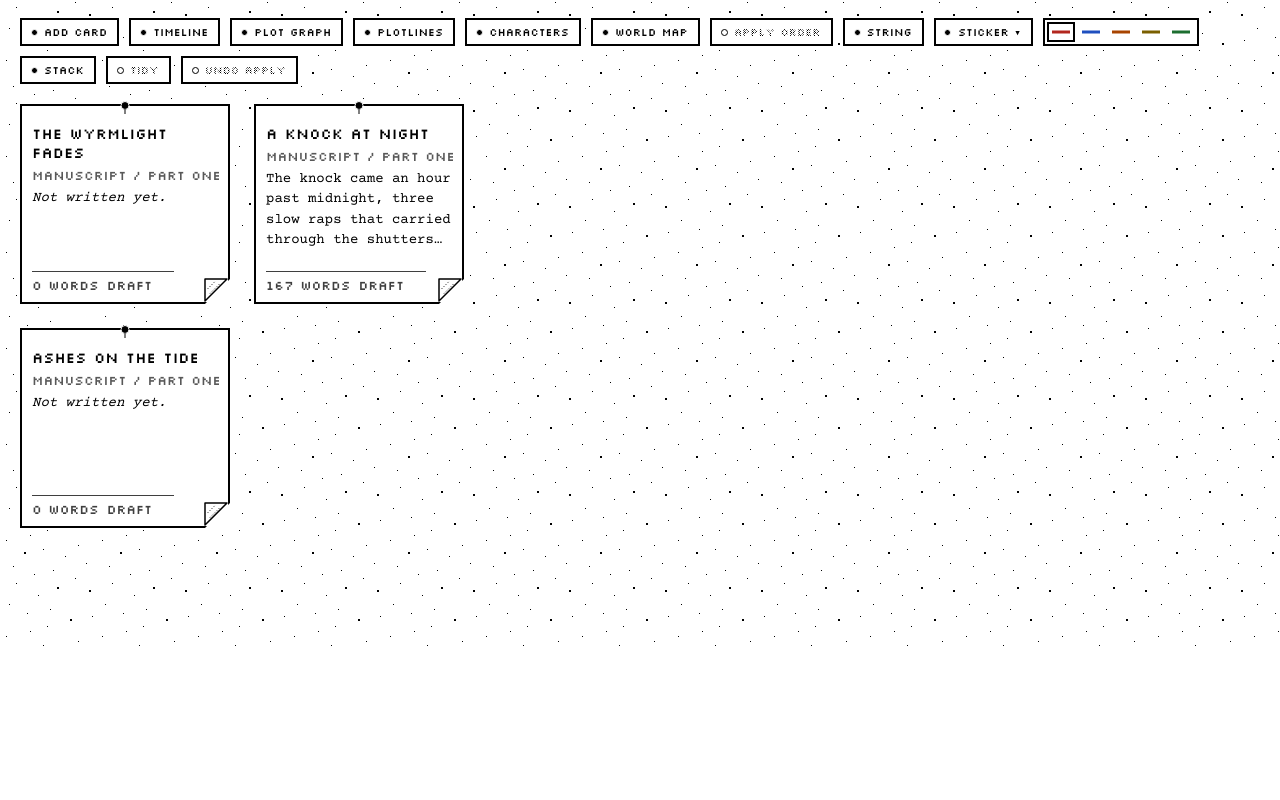
Scenario: tidying the board › is offered only once something has actually been moved
Expected: the button with class "board-tool" showing "Tidy" is disabled, [106,56,171,84]
Press the mouse on the element that starts with "The Wyrmlight Fades": (125, 204) [20,104,230,304]
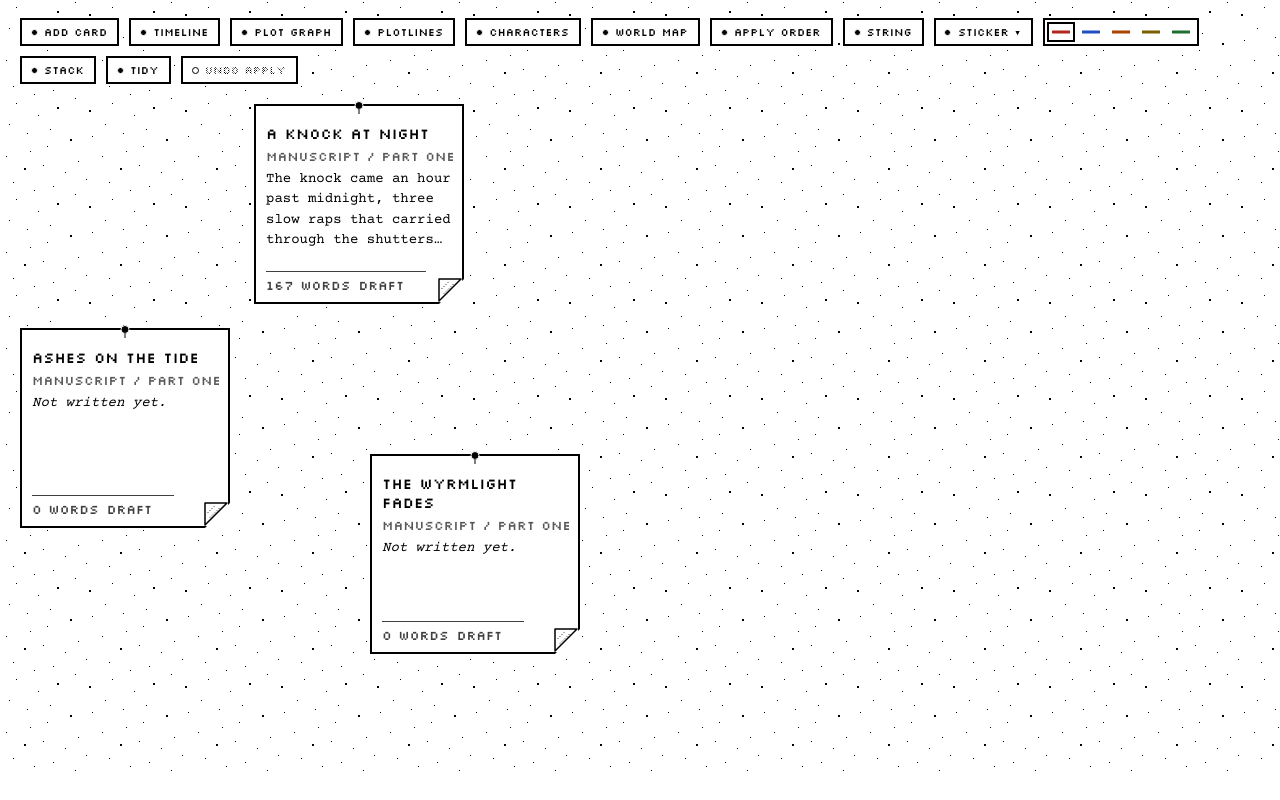
Expected: the button with class "board-tool" showing "Tidy" is enabled, [106,56,171,84]
